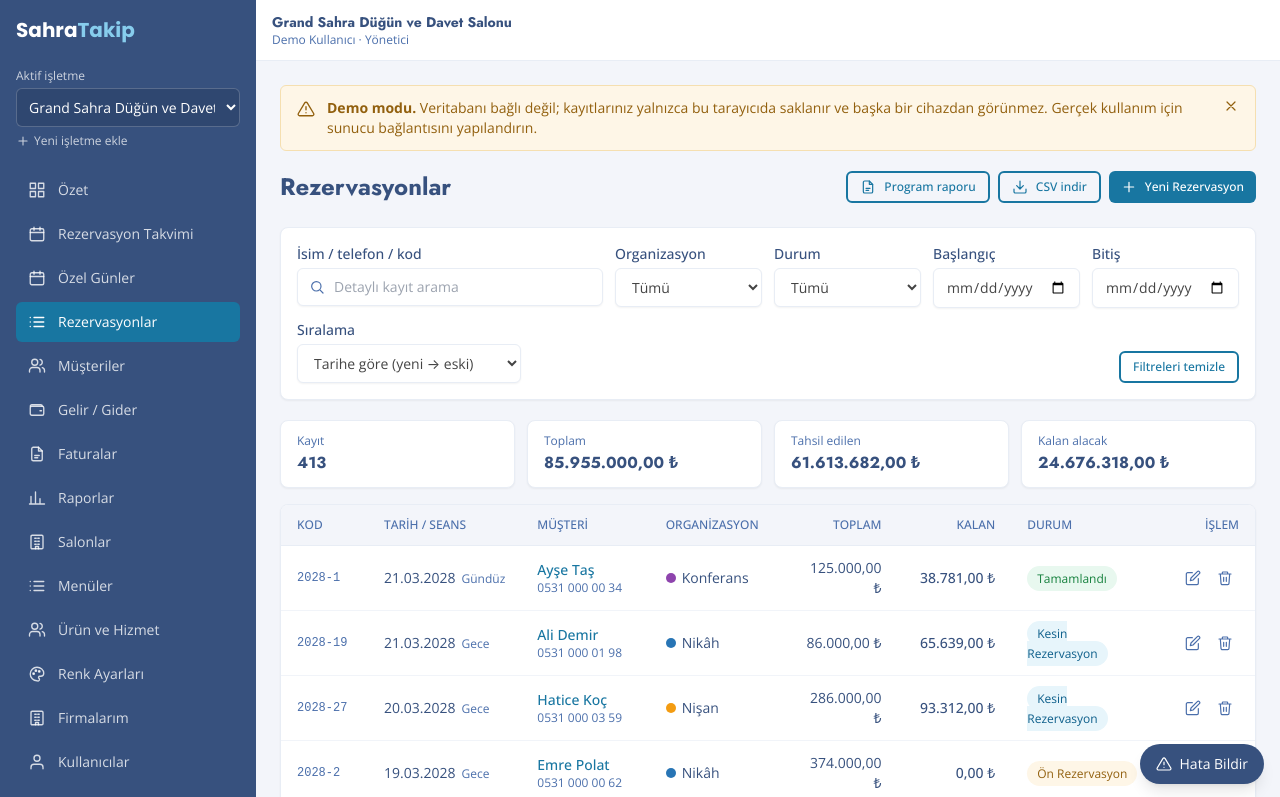
Test: Rezervasyon listesi › organizasyon filtresi yalnızca o türü bırakır
The width and height of the screenshot is (1280, 797).
// 'Düğün' aktif işletmede bulunan bir tür (Kına diğer işletmede)
Select "Düğün" in the dropdown labelled "Organizasyon". click: [688, 288]
box: [615,268,762,307]
(page scrolled)
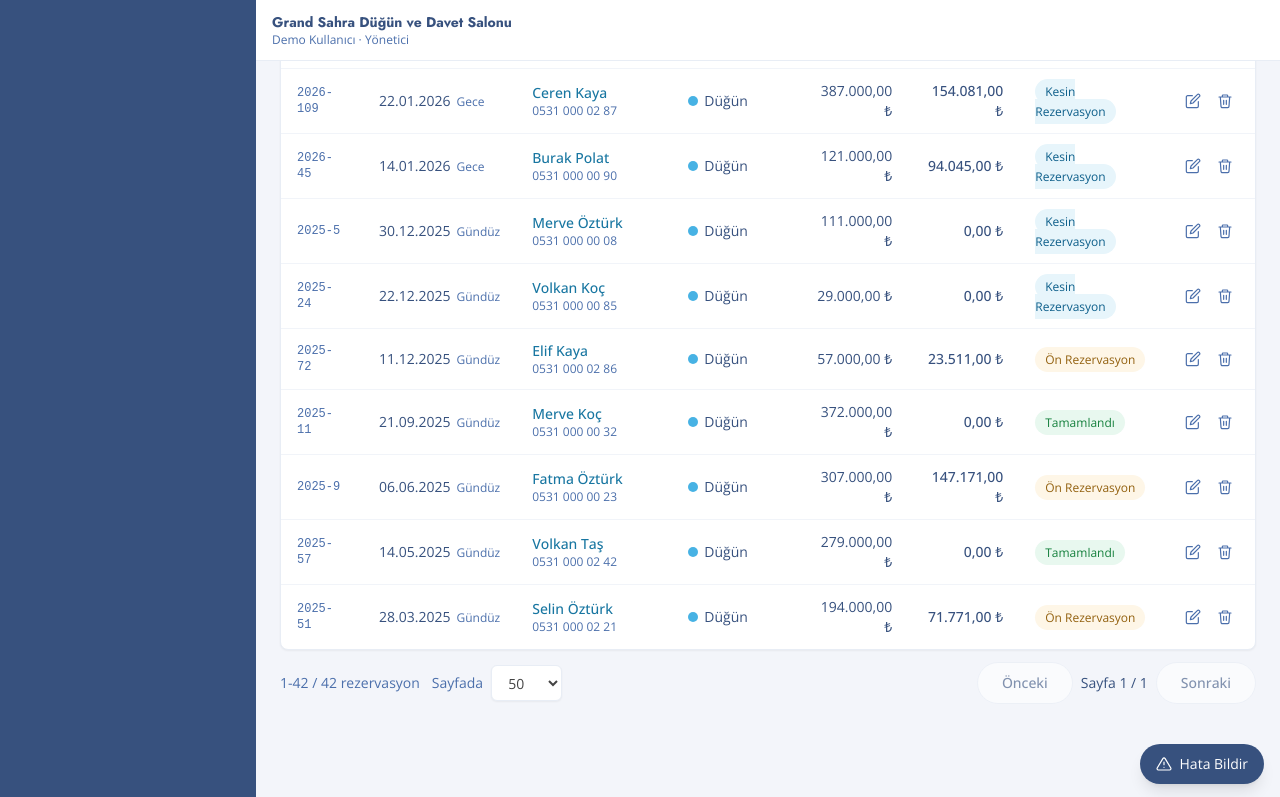
Expected: the 1st row shows "Düğün", [704,91,748,110]
Expected: the 2nd row shows "Düğün", [704,156,748,175]
Expected: the 3rd row shows "Düğün", [704,221,748,240]
